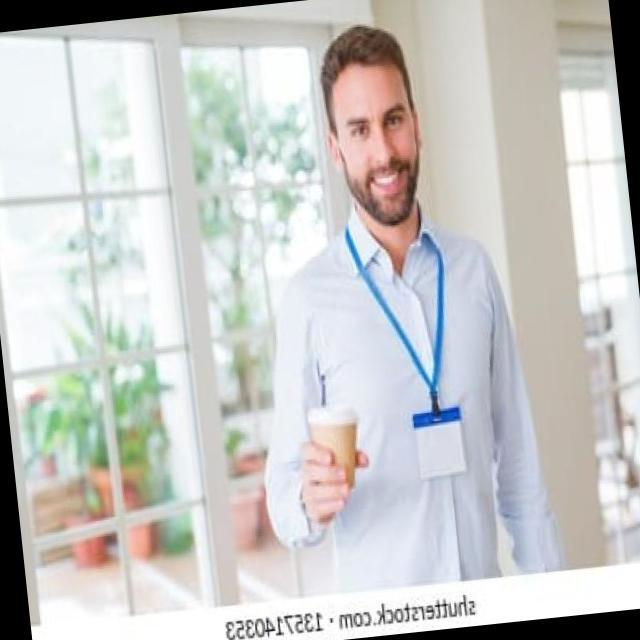id_card: (347, 221, 476, 488)
